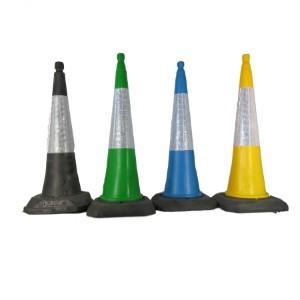traffic cone: (210, 53, 289, 213), (85, 51, 155, 218), (21, 61, 93, 215), (151, 58, 219, 212)
